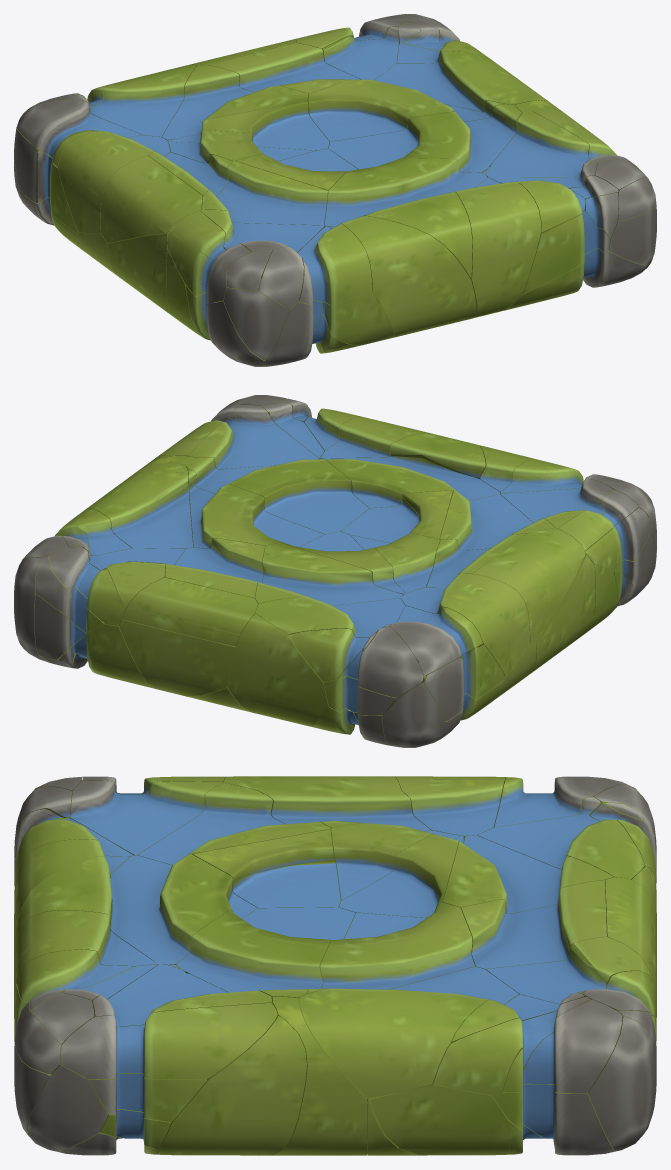
File: arena block 4 broken.fbx
3 renders of one model, top to bottom at view 1: azimuth 30°, elevation 25°; view 2: azimuth 150°, elevation 25°; view 3: azimuth 270°, elevation 25°, orthographic. The views are drawn at different scales.
Parts seen in each view (by area): view 1: arena block 4 lp_cell.047, arena block 4 lp_cell.017, arena block 4 lp_cell.046, arena block 4 lp_cell.050, arena block 4 lp_cell.042, arena block 4 lp_cell.099, arena block 4 lp_cell.054, arena block 4 lp_cell.089, arena block 4 lp_cell.038, arena block 4 lp_cell.015, arena block 4 lp_cell.013, arena block 4 lp_cell.092 (+43 smaller); view 2: arena block 4 lp_cell.046, arena block 4 lp_cell.007, arena block 4 lp_cell.054, arena block 4 lp_cell.099, arena block 4 lp_cell.089, arena block 4 lp_cell.020, arena block 4 lp_cell.015, arena block 4 lp_cell.050, arena block 4 lp_cell.042, arena block 4 lp_cell.013, arena block 4 lp_cell.022, arena block 4 lp_cell.056 (+44 smaller); view 3: arena block 4 lp_cell.054, arena block 4 lp_cell.081, arena block 4 lp_cell.012, arena block 4 lp_cell.046, arena block 4 lp_cell.042, arena block 4 lp_cell.050, arena block 4 lp_cell.011, arena block 4 lp_cell.016, arena block 4 lp_cell.015, arena block 4 lp_cell.052, arena block 4 lp_cell.061, arena block 4 lp_cell (+39 smaller).
Boxes of the visible parts, box(x1,y1,x2,y2) form: arena block 4 lp_cell.047: box(329, 216, 476, 337); arena block 4 lp_cell.017: box(455, 178, 540, 317); arena block 4 lp_cell.046: box(328, 104, 521, 172); arena block 4 lp_cell.050: box(308, 79, 504, 142); arena block 4 lp_cell.042: box(324, 158, 487, 226); arena block 4 lp_cell.099: box(100, 155, 202, 243); arena block 4 lp_cell.054: box(374, 51, 547, 112); arena block 4 lp_cell.089: box(58, 131, 170, 232); arena block 4 lp_cell.038: box(201, 161, 327, 225); arena block 4 lp_cell.015: box(162, 65, 308, 140); arena block 4 lp_cell.013: box(485, 111, 616, 177); arena block 4 lp_cell.092: box(298, 224, 372, 305); arena block 4 lp_cell.046: box(185, 457, 369, 534); arena block 4 lp_cell.007: box(228, 613, 328, 726); arena block 4 lp_cell.054: box(86, 462, 192, 548); arena block 4 lp_cell.099: box(472, 528, 585, 644); arena block 4 lp_cell.089: box(400, 574, 529, 676); arena block 4 lp_cell.020: box(119, 619, 235, 695); arena block 4 lp_cell.015: box(255, 542, 403, 605); arena block 4 lp_cell.050: box(188, 469, 324, 548); arena block 4 lp_cell.042: box(318, 456, 500, 508); arena block 4 lp_cell.013: box(188, 404, 318, 469); arena block 4 lp_cell.022: box(127, 577, 258, 634); arena block 4 lp_cell.056: box(255, 596, 405, 637); arena block 4 lp_cell.054: box(299, 966, 518, 1098); arena block 4 lp_cell.081: box(154, 1015, 306, 1155); arena block 4 lp_cell.012: box(60, 1002, 277, 1078); arena block 4 lp_cell.046: box(176, 907, 355, 997); arena block 4 lp_cell.042: box(110, 854, 257, 965); arena block 4 lp_cell.050: box(307, 902, 475, 993); arena block 4 lp_cell.011: box(461, 880, 606, 969); arena block 4 lp_cell.016: box(370, 1084, 509, 1155); arena block 4 lp_cell.015: box(443, 835, 613, 913); arena block 4 lp_cell.052: box(259, 996, 366, 1155); arena block 4 lp_cell.061: box(70, 780, 223, 855); arena block 4 lp_cell: box(503, 999, 622, 1093).
Bounding box in the file's own units: 200 × 49.82 × 200.
